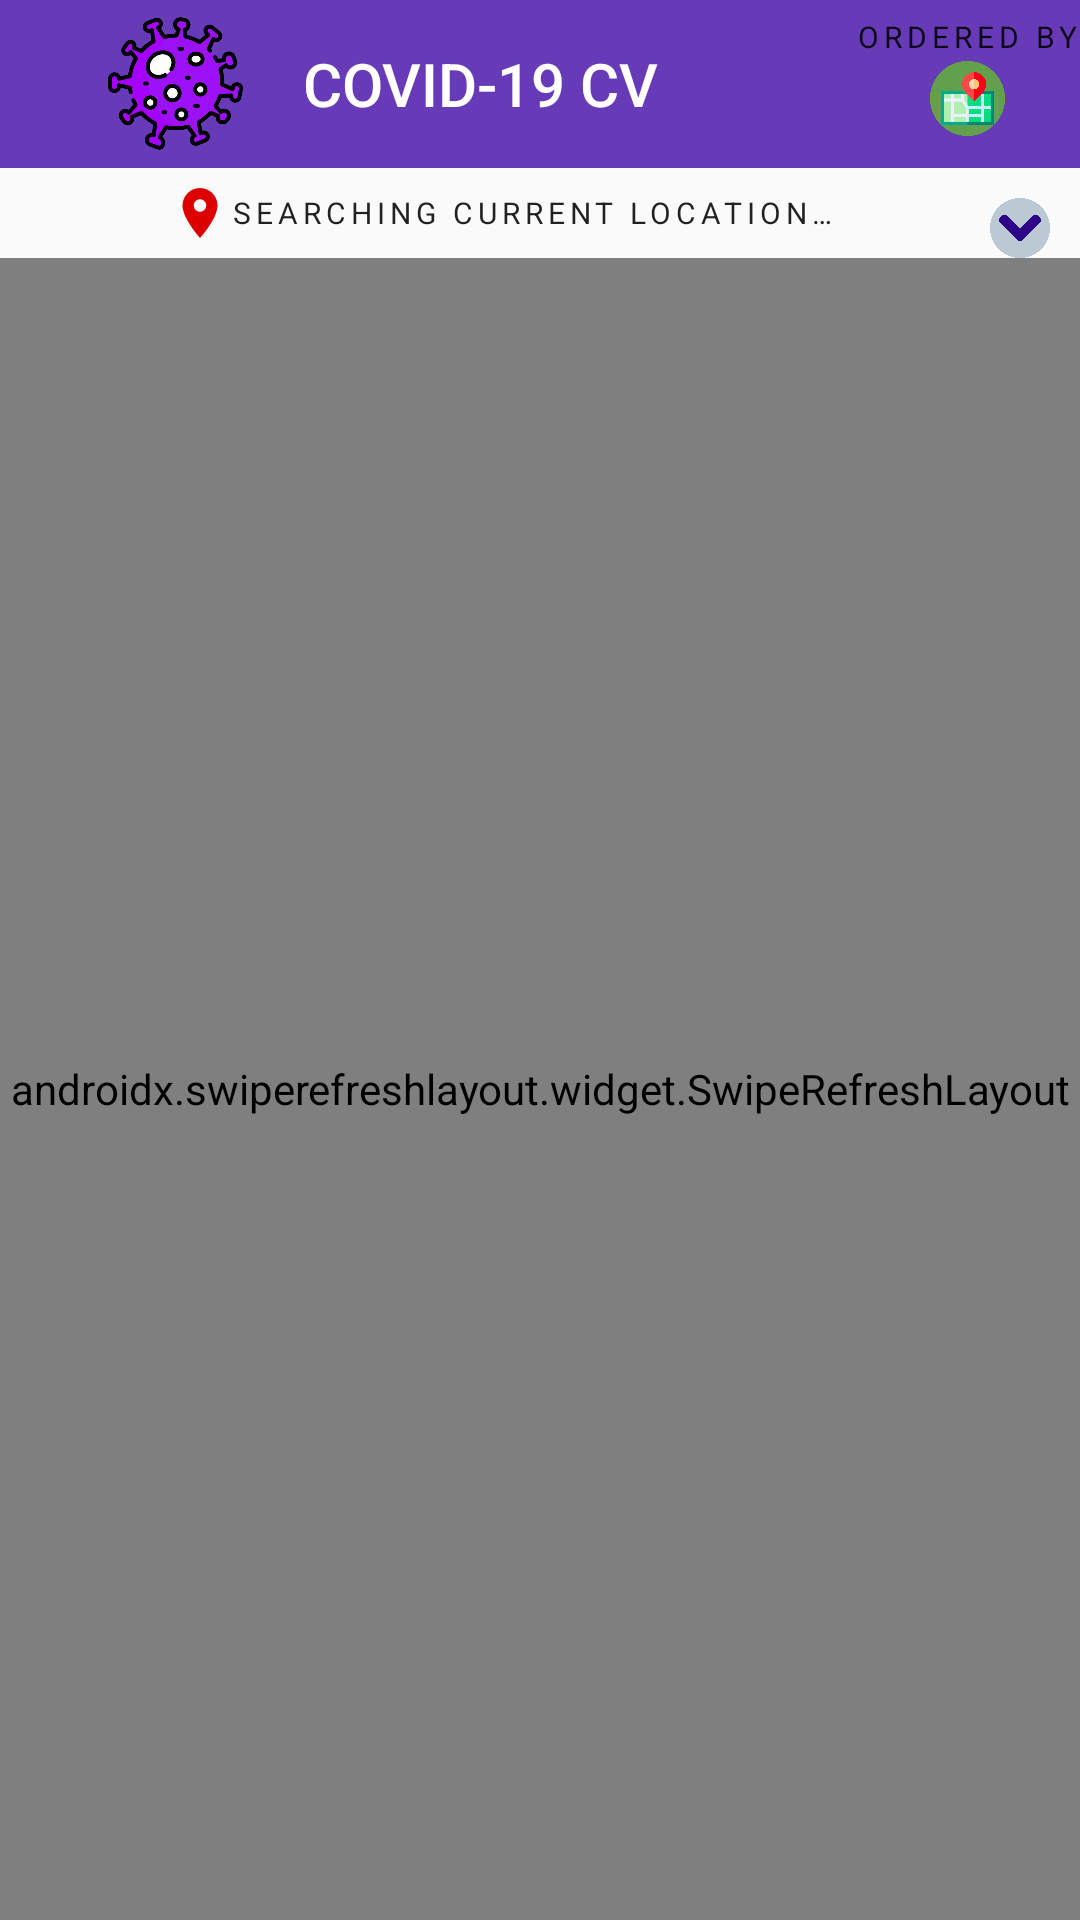

Icon click points for this 1080*1920 phone screenshot, format (x,y):
arrow down: (1020,228)
coronavirus: (175,83)
